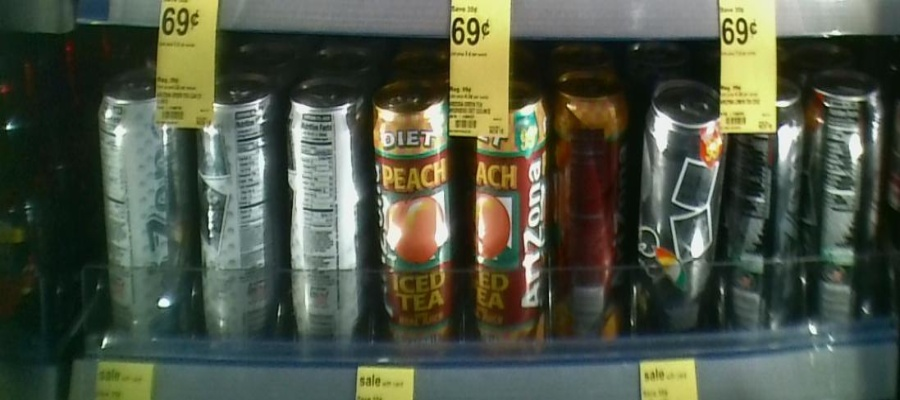bottle: (94, 74, 191, 341), (195, 75, 281, 340), (372, 86, 459, 346), (469, 89, 555, 347), (640, 79, 726, 332), (808, 67, 888, 332), (287, 84, 366, 338), (560, 65, 628, 342), (733, 67, 803, 329)
